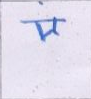anusvara: (38, 1, 43, 6)
